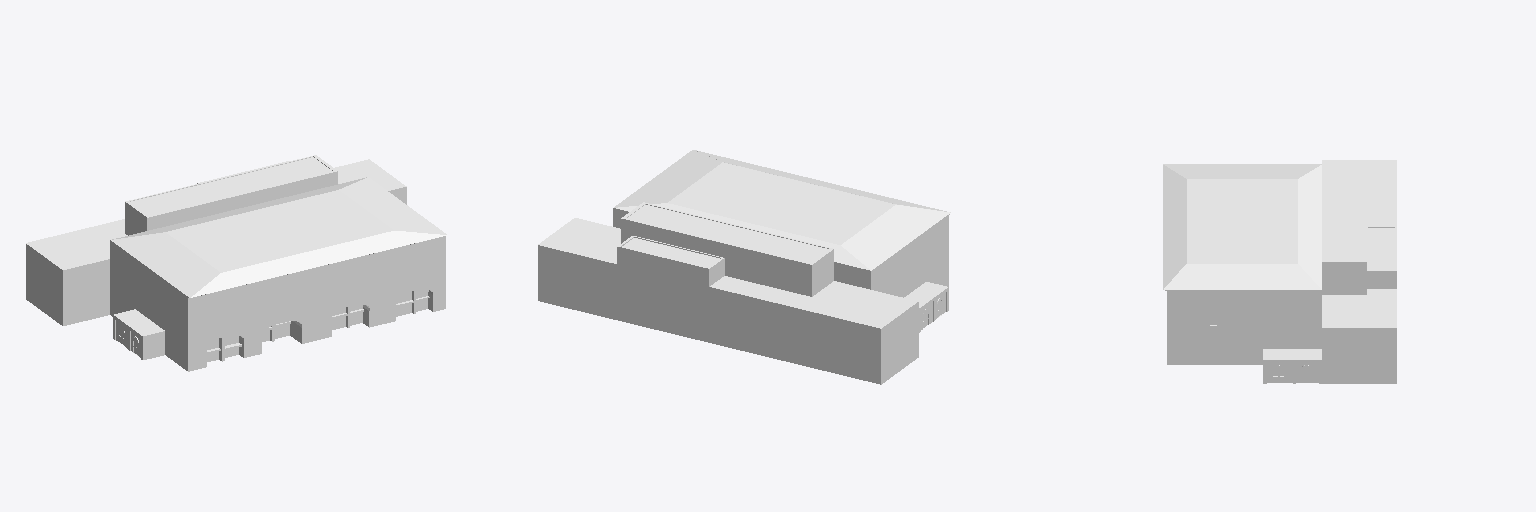
3 renders of one model, left to right at view 1: azimuth 30°, elevation 25°; view 2: azimuth 150°, elevation 25°; view 3: azimuth 270°, elevation 25°, orthographic.
Parts seen in each view (by area): view 1: SketchUp.002_ID16, SketchUp.003_ID22, SketchUp.004_ID28; view 2: SketchUp.003_ID22, SketchUp.002_ID16, SketchUp.004_ID28, SketchUp.007_ID46; view 3: SketchUp.002_ID16, SketchUp.003_ID22, SketchUp.004_ID28, SketchUp.007_ID46.
Part boxes in pixels (x1,y1,x2,y2): SketchUp.002_ID16: (110, 177, 446, 371); SketchUp.003_ID22: (26, 155, 406, 325); SketchUp.004_ID28: (130, 156, 332, 215); SketchUp.003_ID22: (538, 202, 918, 384); SketchUp.002_ID16: (613, 150, 950, 332); SketchUp.004_ID28: (626, 204, 828, 263); SketchUp.007_ID46: (621, 237, 720, 267); SketchUp.002_ID16: (1163, 164, 1321, 364); SketchUp.003_ID22: (1263, 160, 1396, 383); SketchUp.004_ID28: (1325, 171, 1364, 260); SketchUp.007_ID46: (1368, 227, 1394, 269).
Size of the model in its own units: 21.98 by 5.38 by 12.97.